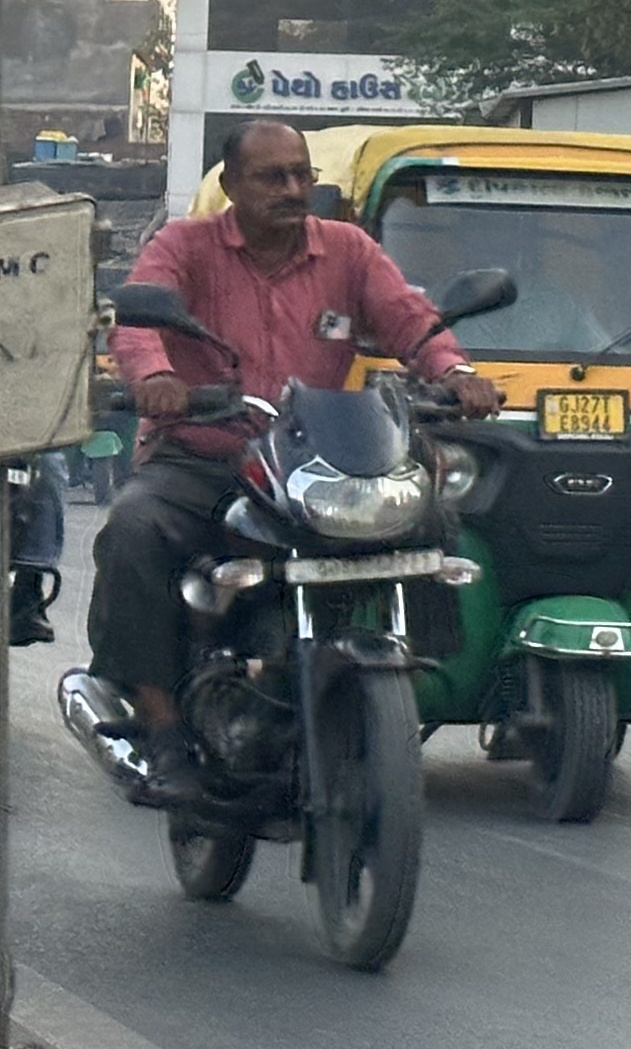BikeWithRider: (44, 106, 530, 985)
NoHelmet: (206, 110, 328, 246)
